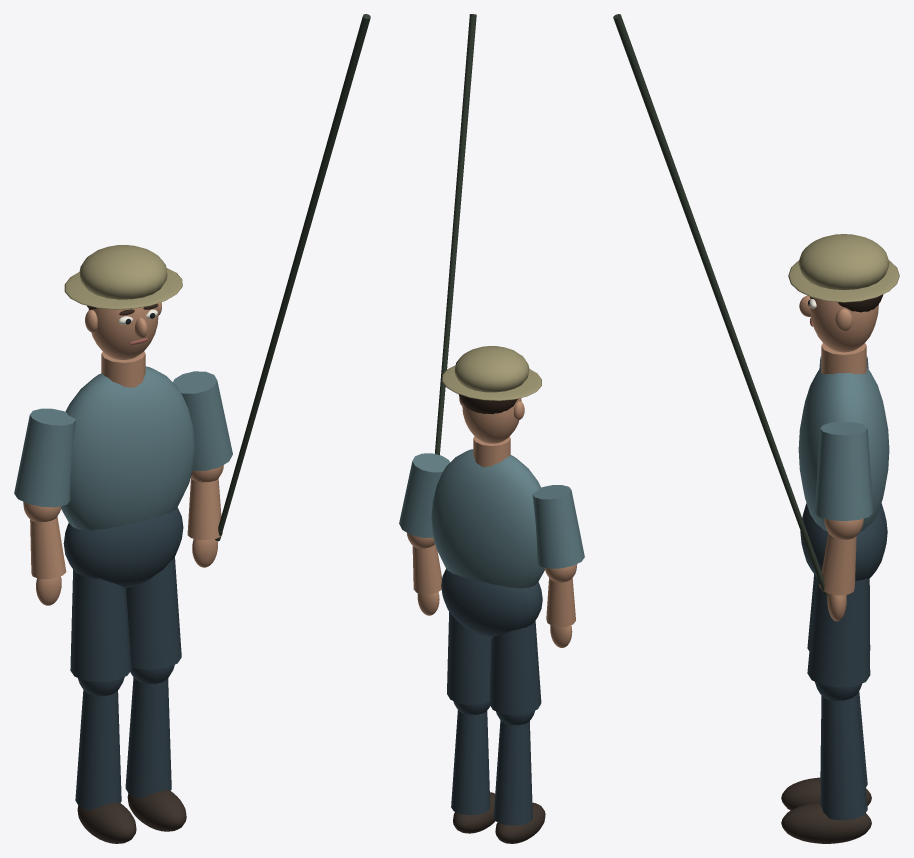
The model's file is human-fisher.glb.
3 renders of one model, left to right at view 1: azimuth 30°, elevation 25°; view 2: azimuth 150°, elevation 25°; view 3: azimuth 270°, elevation 25°, orthographic. The views are drawn at different scales.
Visible parts, largest first — view 1: torso, hips, thigh_l, sleeve_l, thigh_r, calf_l, calf_r, fishing_rod, hat_crown, sleeve_r, head, forearm_l (+5 smaller); view 2: torso, hips, thigh_l, calf_r, calf_l, sleeve_l, thigh_r, fishing_rod, hat_crown, sleeve_r, head, hat_brim (+9 smaller); view 3: torso, thigh_r, sleeve_r, calf_r, fishing_rod, hat_crown, hips, shoe_r, head, forearm_r, hat_brim, neck (+3 smaller).
Boxes of the visible parts, x1,y1,x2,y2 form: torso: (61,366,194,530); hips: (63,507,183,588); thigh_l: (70,569,131,681); sleeve_l: (14,408,75,507); thigh_r: (126,557,181,669); calf_l: (75,689,121,810); calf_r: (125,677,171,797); fishing_rod: (215,14,370,541); hat_crown: (79,245,167,299); sleeve_r: (173,371,232,470); head: (88,303,158,359); forearm_l: (30,516,66,579); torso: (431,449,544,588); hips: (441,568,542,637); thigh_l: (489,620,541,715); calf_r: (451,710,490,815); calf_l: (493,720,532,825); sleeve_l: (532,485,584,568); thigh_r: (447,611,491,704); fishing_rod: (435,14,476,454); hat_crown: (454,346,529,392); sleeve_r: (399,453,449,537); head: (462,398,521,443); hat_brim: (442,365,541,400); torso: (798,367,889,531); thigh_r: (807,576,870,687); sleeve_r: (814,422,873,521); calf_r: (820,694,867,820); fishing_rod: (613,14,828,595); hat_crown: (798,234,889,289); hips: (800,503,887,581); shoe_r: (781,802,871,843); head: (810,297,878,352); forearm_r: (819,533,856,595); hat_brim: (788,260,899,302); neck: (821,343,866,374).
Bounding box in the file's own units: 0.8201 × 2.78 × 0.8214.
